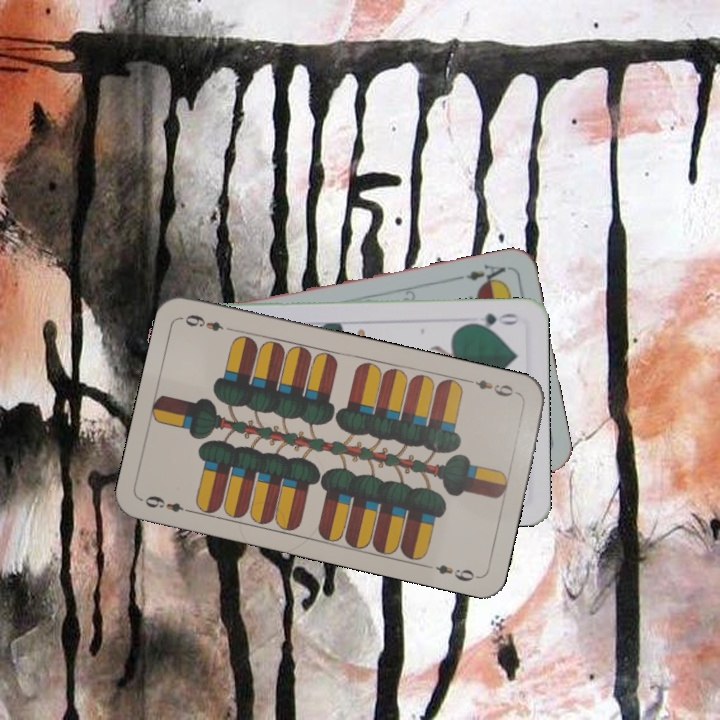E9: (463, 375, 522, 400), (140, 491, 197, 516)
EA: (462, 260, 509, 288)
GO: (463, 309, 522, 332)
